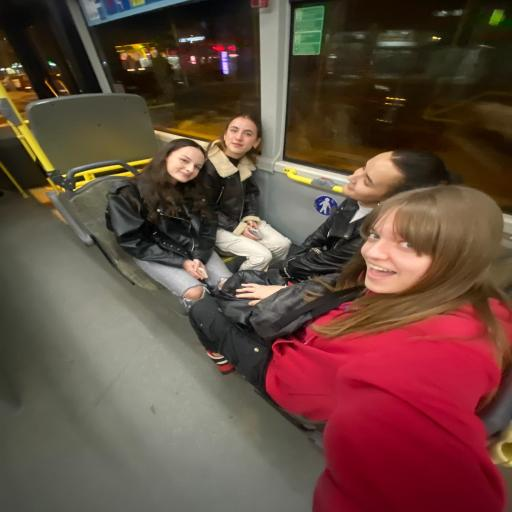marija: (166, 142, 206, 186)
masa: (223, 117, 264, 154)
